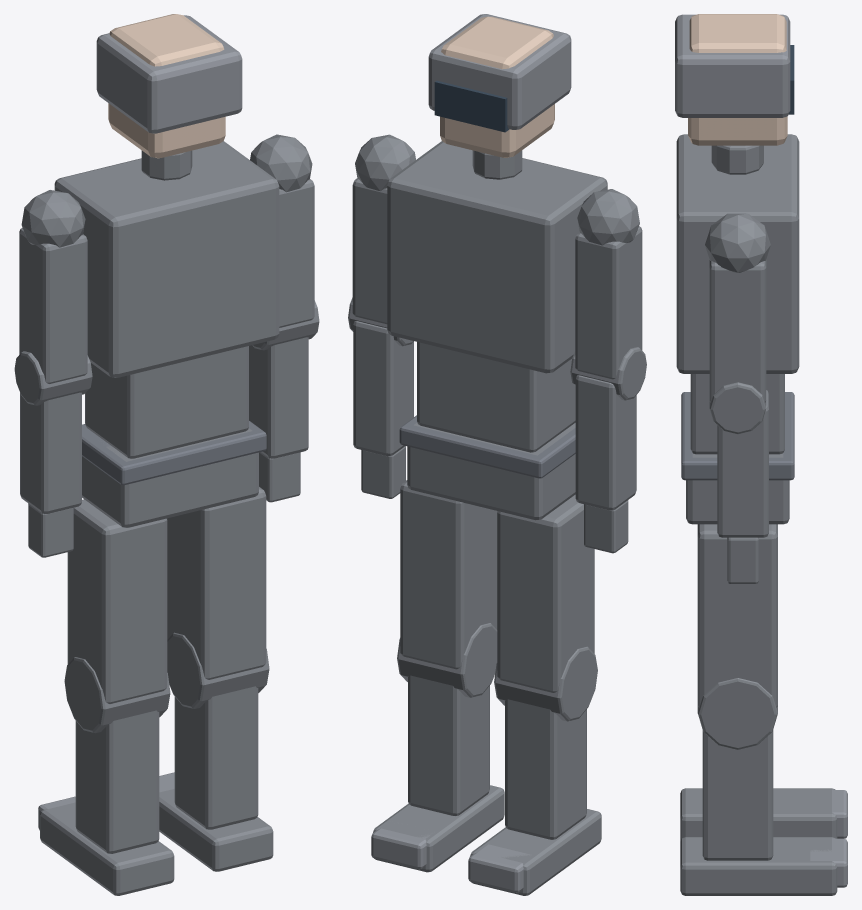
File: citizen.glb
3 views of the same model, side by side, from view 1: azimuth 30°, elevation 25°; view 2: azimuth 150°, elevation 25°; view 3: azimuth 270°, elevation 25° (orthographic). The views are drawn at different scales.
Visible parts, largest first — view 1: chest, thigh0, thigh2, abdomen, shin0, shin2, helmet, upperarm0, pelvis, forearm0, head, forearm2 (+13 smaller); view 2: chest, thigh0, thigh2, abdomen, shin0, shin2, upperarm0, pelvis, forearm0, helmet, forearm2, head (+15 smaller); view 3: chest, thigh2, shin2, helmet, foot2, upperarm2, head, forearm2, knee2, foot0, abdomen, shoulder_joint2 (+7 smaller).
Part boxes in pixels (box(x1,y1,x2,y2)): chest: box(54, 141, 279, 377); thigh0: box(67, 499, 167, 703); thigh2: box(166, 487, 266, 679); abdomen: box(85, 346, 248, 458); shin0: box(75, 710, 159, 853); shin2: box(174, 686, 258, 829); helmet: box(96, 15, 242, 133); upperarm0: box(19, 228, 87, 383); pelvis: box(82, 428, 258, 527); forearm0: box(20, 392, 81, 513); head: box(108, 14, 225, 158); forearm2: box(249, 337, 308, 458); chest: box(387, 141, 607, 373); thigh0: box(497, 494, 594, 692); thigh2: box(400, 480, 497, 669); abdomen: box(417, 342, 575, 452); shin0: box(505, 699, 586, 839); shin2: box(408, 675, 489, 816); upperarm0: box(575, 226, 642, 379); pelvis: box(407, 422, 575, 520); forearm0: box(575, 375, 636, 510); helmet: box(428, 14, 571, 129); forearm2: box(353, 321, 413, 456); head: box(440, 16, 554, 157); chest: box(676, 134, 799, 373); thigh2: box(697, 524, 777, 707); shin2: box(702, 730, 773, 860); helmet: box(675, 14, 790, 117); foot2: box(680, 837, 837, 895); upperarm2: box(709, 260, 766, 402); head: box(688, 14, 787, 145); forearm2: box(717, 390, 768, 537); knee2: box(697, 678, 777, 749); foot0: box(680, 788, 837, 841); abdomen: box(690, 374, 784, 454); shoulder_joint2: box(705, 213, 770, 272).
Bounding box in the file's own units: 0.606 × 1.7 × 0.3206.
